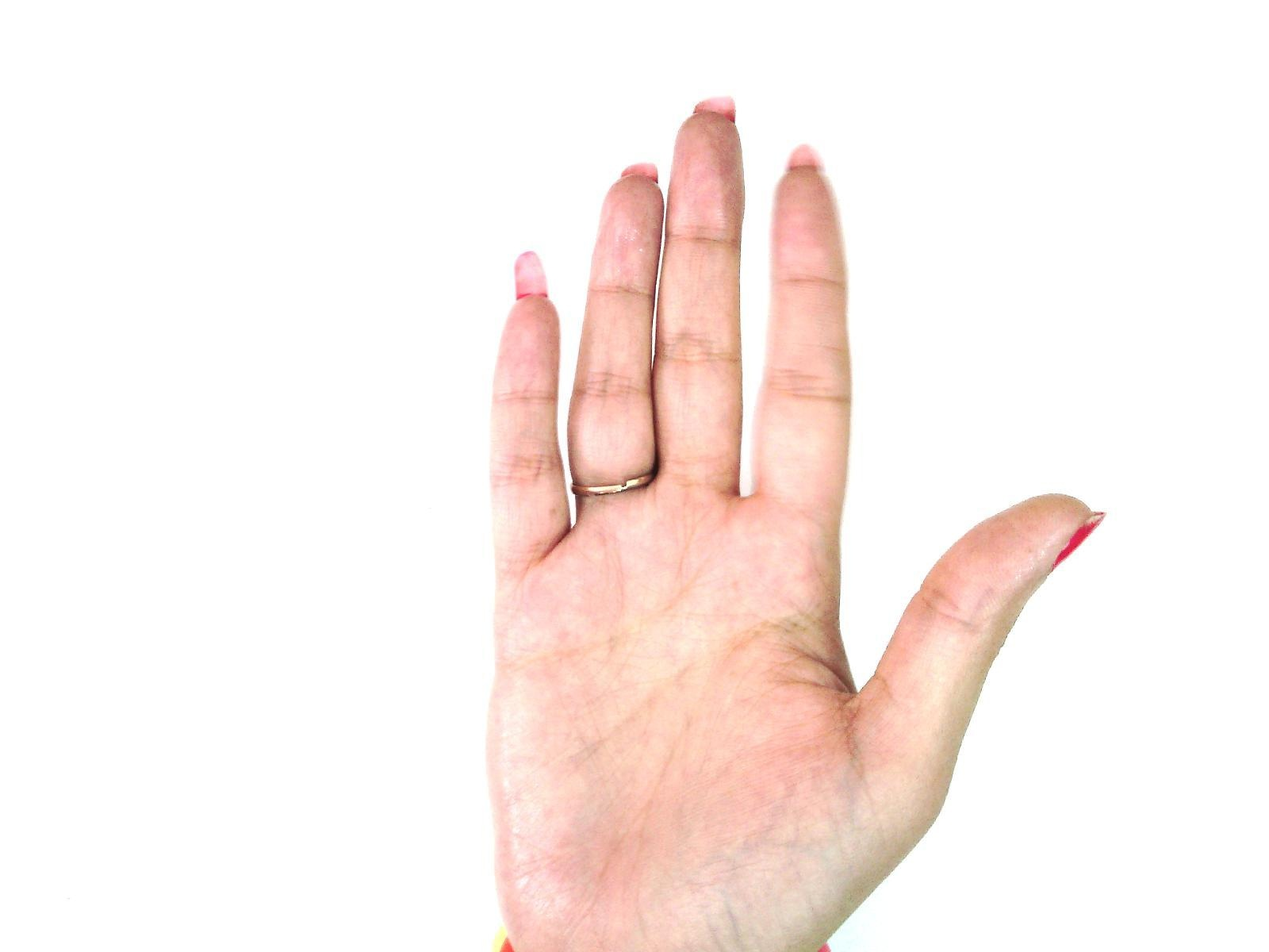open_palm: (481, 96, 1106, 951)
